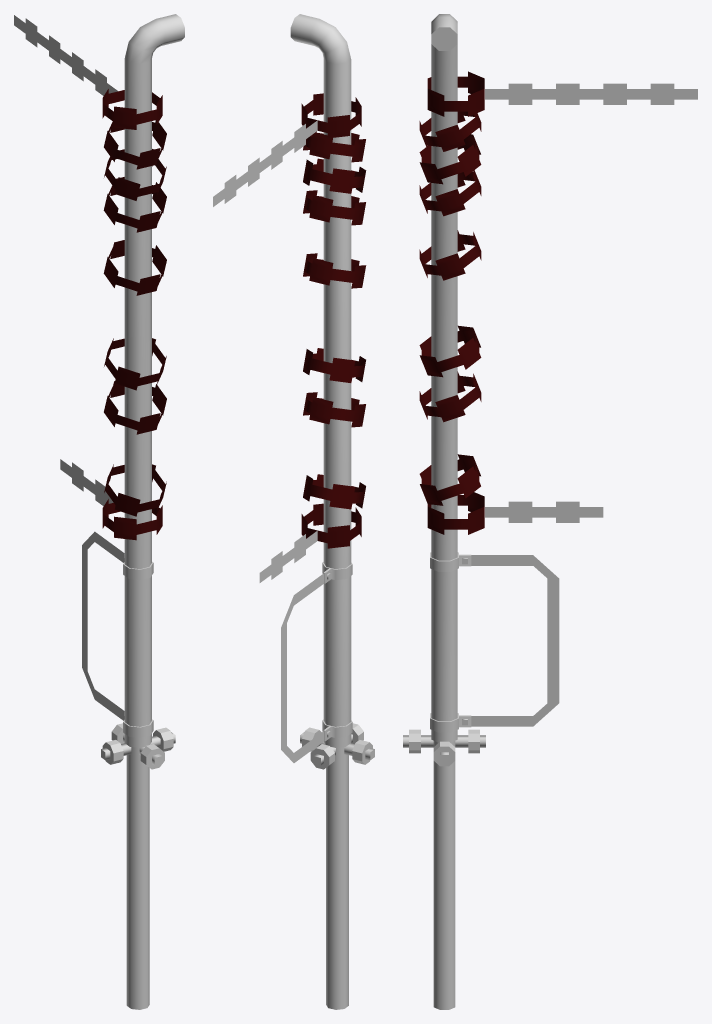
Rendered from 1_Weapon0.fbx.
3 views of the same model, side by side, from view 1: azimuth 30°, elevation 25°; view 2: azimuth 150°, elevation 25°; view 3: azimuth 270°, elevation 25° (orthographic).
Visible parts, largest first — view 1: 1_Weapon0_1_Mesh, 1_Weapon0_0_Mesh, 1_Weapon0_ClothMesh; view 2: 1_Weapon0_1_Mesh, 1_Weapon0_0_Mesh, 1_Weapon0_ClothMesh; view 3: 1_Weapon0_1_Mesh, 1_Weapon0_ClothMesh, 1_Weapon0_0_Mesh.
Part boxes in pixels (box(x1,y1,x2,y2)): 1_Weapon0_1_Mesh: box(102, 14, 184, 747); 1_Weapon0_0_Mesh: box(101, 723, 175, 1009); 1_Weapon0_ClothMesh: box(14, 15, 124, 720); 1_Weapon0_1_Mesh: box(290, 14, 366, 747); 1_Weapon0_0_Mesh: box(300, 723, 374, 1009); 1_Weapon0_ClothMesh: box(213, 120, 324, 762); 1_Weapon0_1_Mesh: box(419, 14, 484, 742); 1_Weapon0_ClothMesh: box(471, 83, 697, 726); 1_Weapon0_0_Mesh: box(403, 729, 485, 1009).
Bounding box in the file's own units: 0.075 × 0.9311 × 0.2491.
